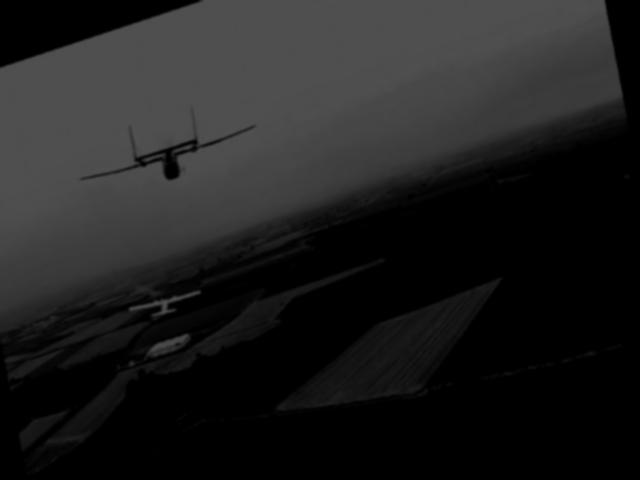hedef: (64, 78, 282, 220), (117, 270, 221, 343)
